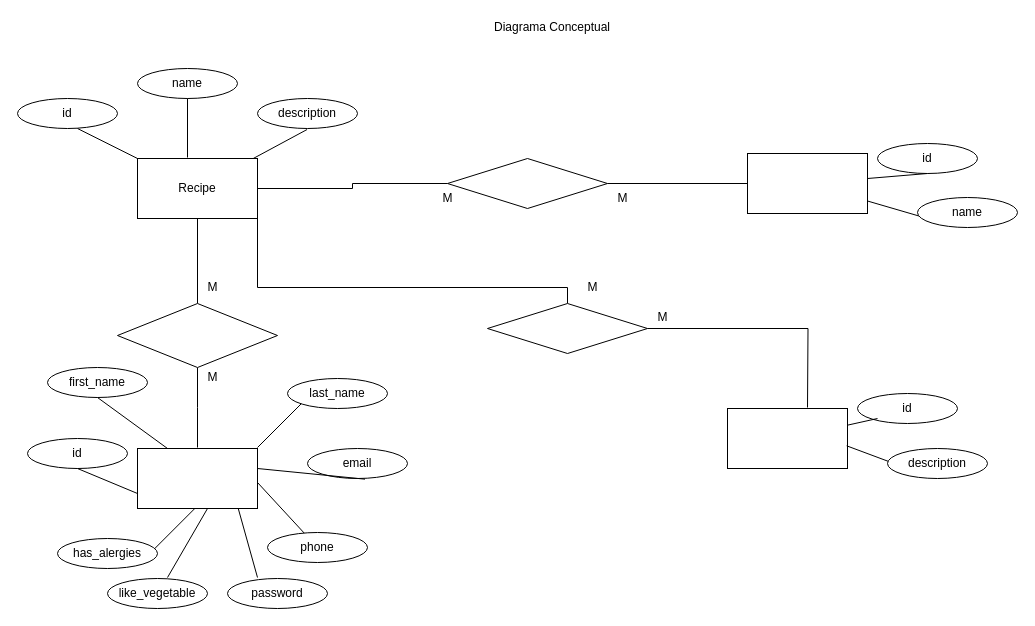
This 1035x626 diagram has some shape labels left out. The shapes that lost their labels are listed below. From the top down, each one's box as (x1, y1, x2, y2) in pixels, then its label:
(446, 158, 608, 208): Tiene
(746, 152, 868, 214): Ingredient
(116, 302, 278, 368): Posee / Pertenece
(486, 302, 648, 354): Posee
(726, 408, 848, 468): Measure_unit
(136, 448, 258, 508): User
